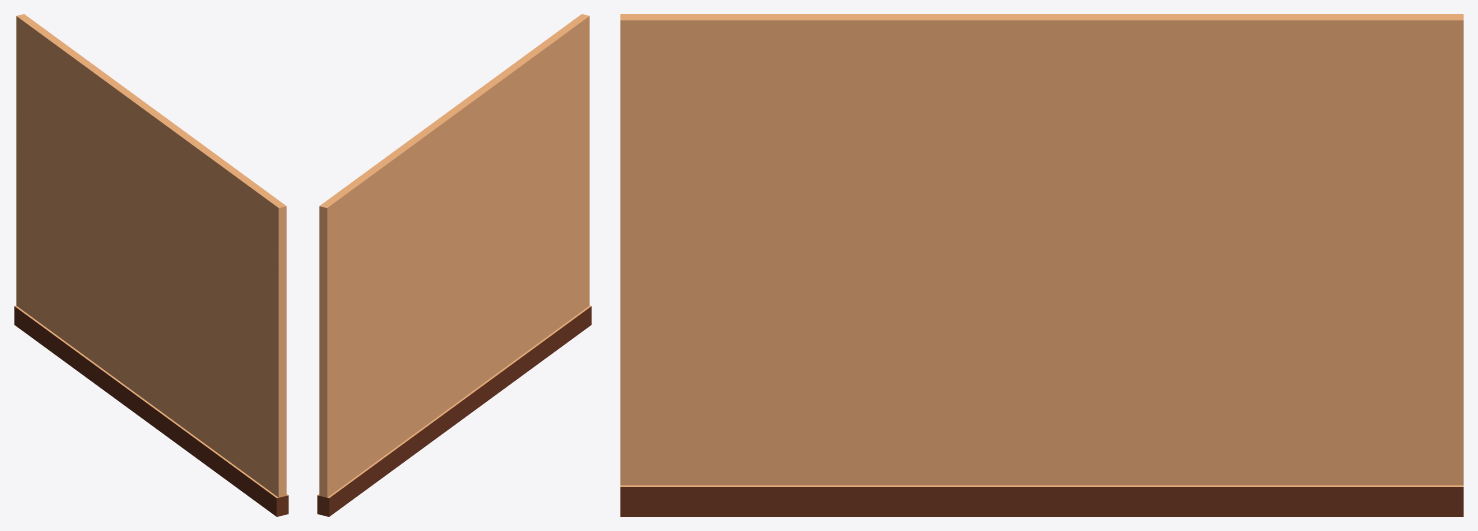
File: wall_1_asset.dae
3 renders of one model, left to right at view 1: azimuth 30°, elevation 25°; view 2: azimuth 150°, elevation 25°; view 3: azimuth 270°, elevation 25°, orthographic. The views are drawn at different scales.
Parts seen in each view (by area): view 1: wall_2; view 2: wall_2; view 3: wall_2.
Part boxes in pixels (<box>): wall_2: <box>14,14,288,516</box>; wall_2: <box>317,14,591,516</box>; wall_2: <box>620,14,1463,516</box>.
Size of the model in its own units: 0.095 by 3.63 by 2.36.
